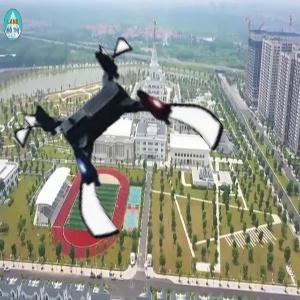drone: (33, 47, 210, 224)
